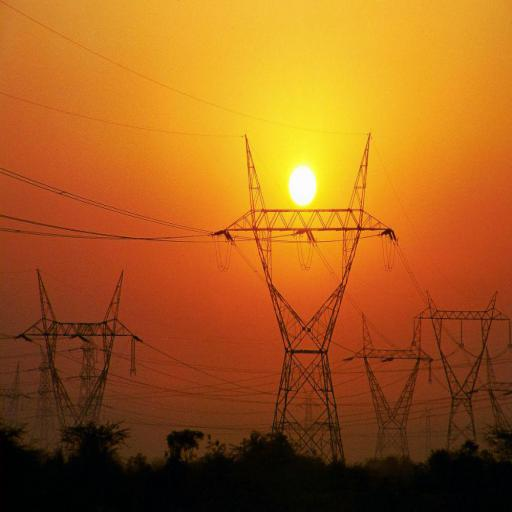wt_5: (222, 134, 392, 464), (16, 267, 144, 461), (422, 291, 508, 457), (354, 312, 434, 465)
